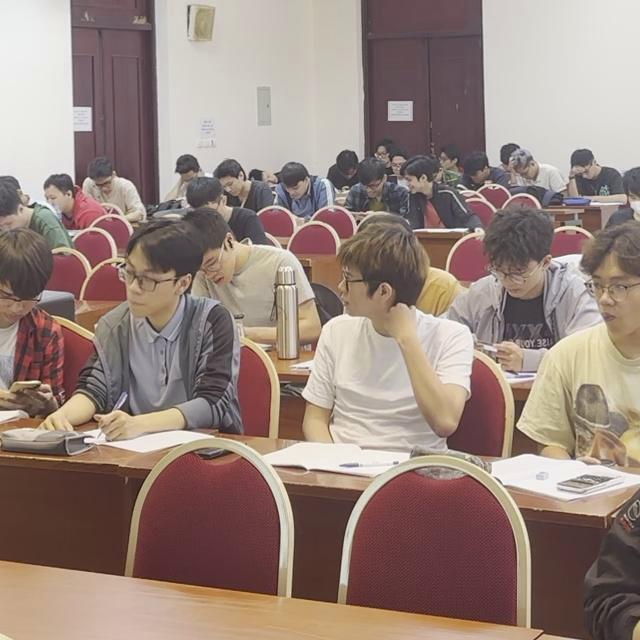Looking away: (126, 267, 164, 316), (493, 262, 537, 296), (338, 273, 369, 318), (46, 188, 63, 210), (224, 179, 241, 200), (95, 178, 112, 196), (284, 183, 301, 200), (363, 181, 379, 199), (407, 175, 420, 194)
Looking forward: (591, 272, 638, 335)
Phone use: (0, 228, 68, 419)
